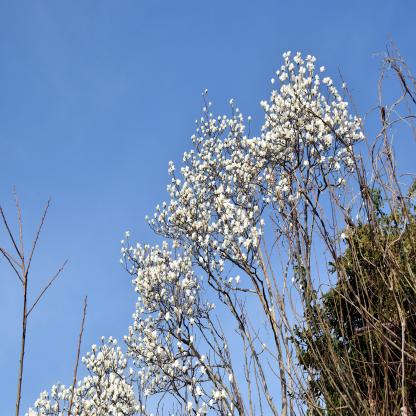Mokuren: (25, 49, 373, 416)
